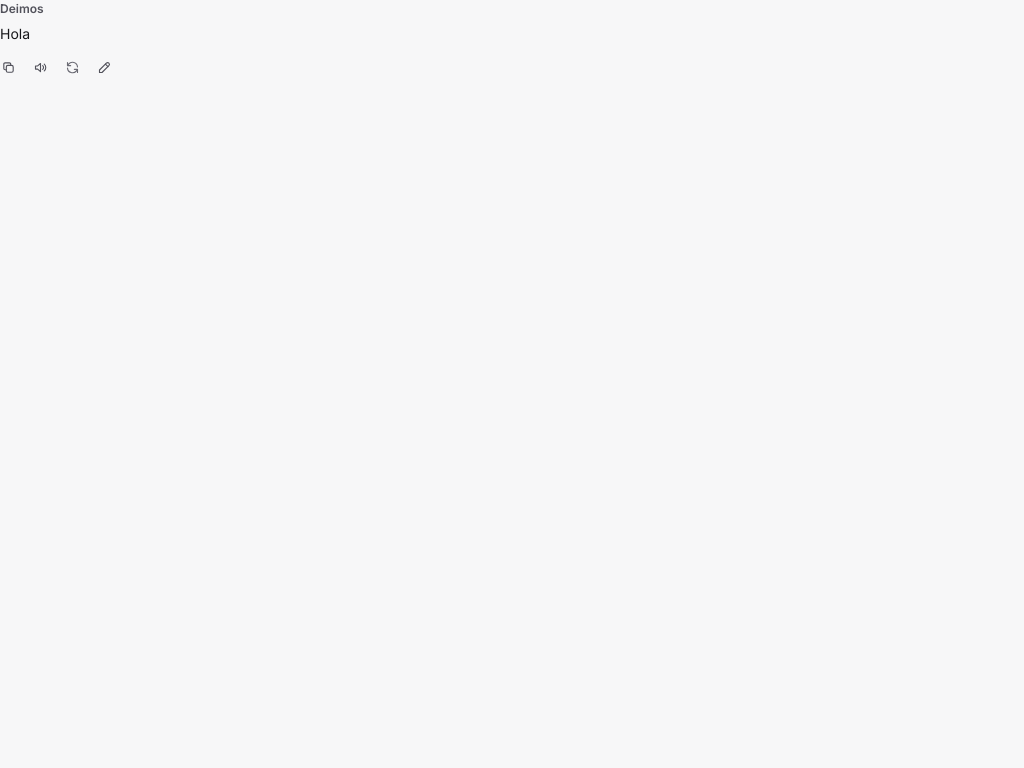
it: an answer being changed when Orbit quits or falls › comes back, and says so, when the answer is opened again after Orbit fell
This screenshot has width=1024, height=768.
Click the button named "Editar y copiar" at (104, 67), box [90,53,118,81]
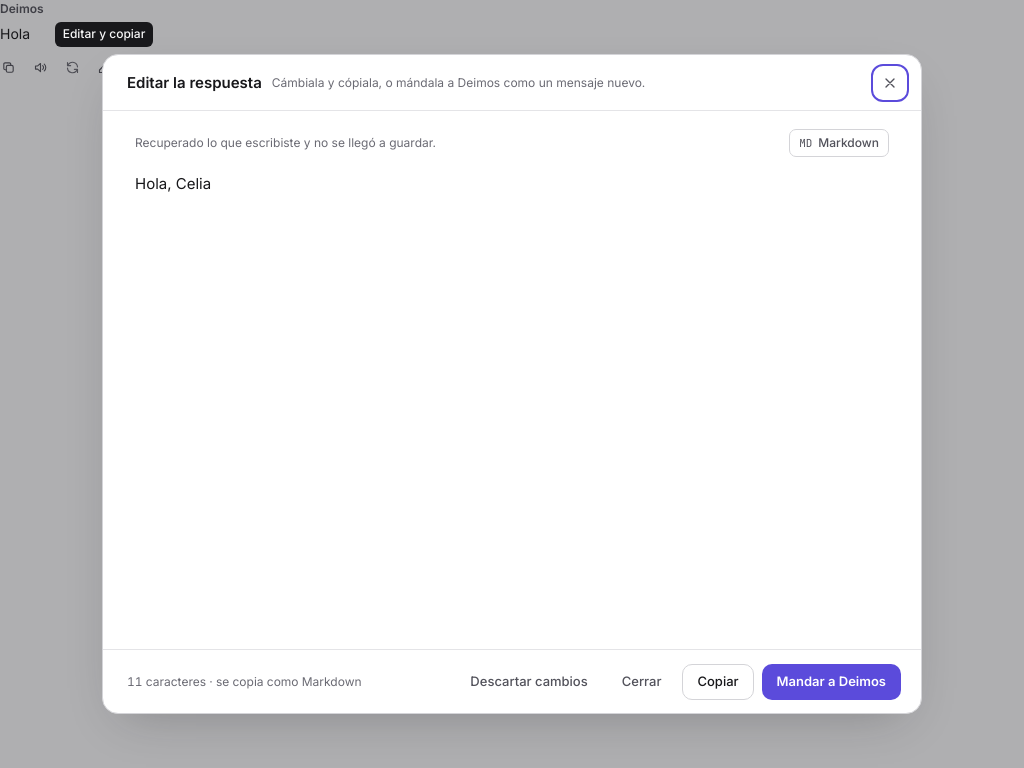
Check: the field named "Texto de la respuesta" reads "Hola, Celia", box [135,174,211,193]
Check: the text "Recuperado lo que escribiste y no se llegó a guardar." is shown, box [135,135,436,150]
